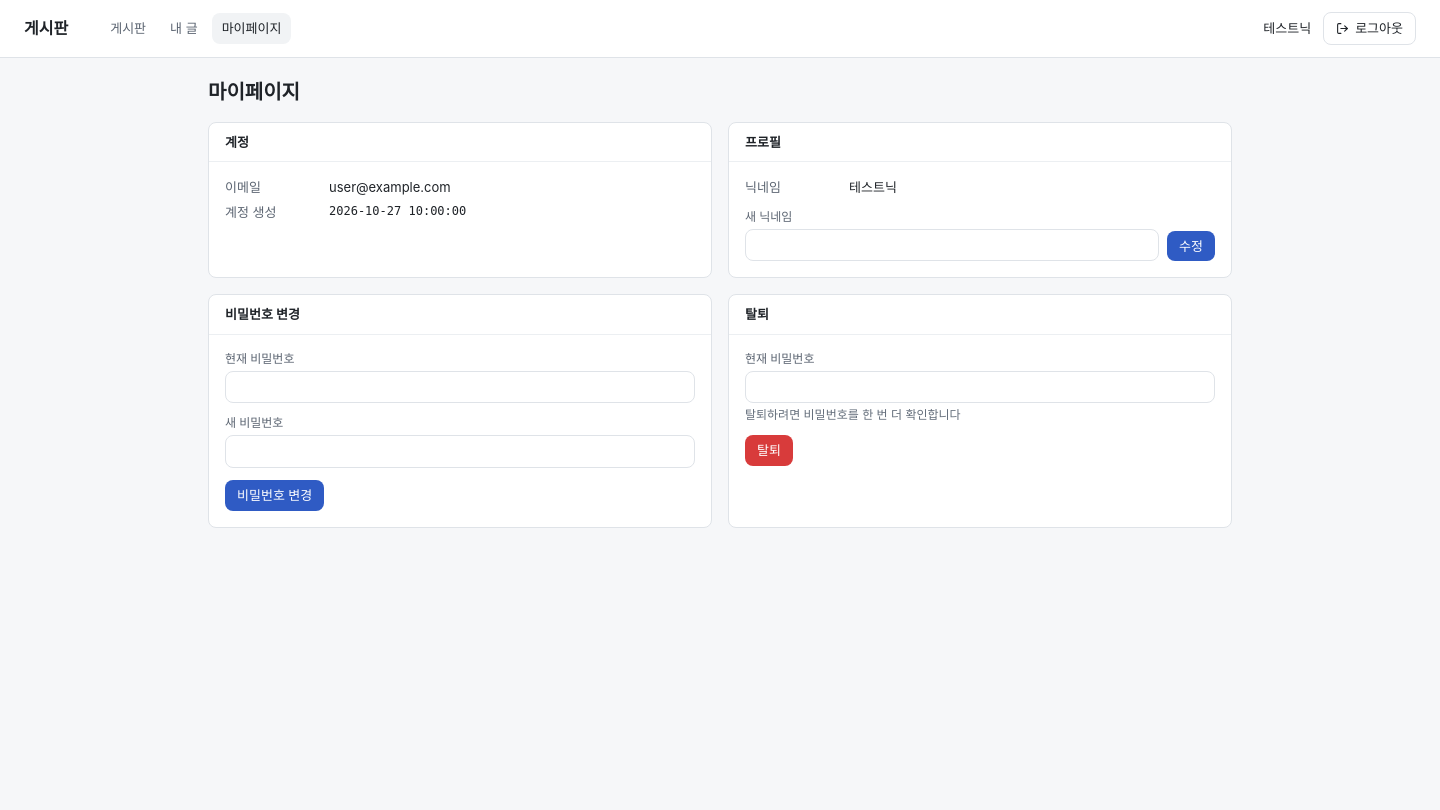
Test case: 화면마다 보이는 문구 › 마이페이지 — 탈퇴, 비밀번호가 틀림 — 검사 목록에 걸리는 것이 없다
expect the element that starts with "마이페이지" shows "user@example.com": met, box [329,179,451,195]
Type "Passw0rd!" into the 2nd password field labelled "현재 비밀번호". click: (980, 387)
box: [745,371,1215,403]
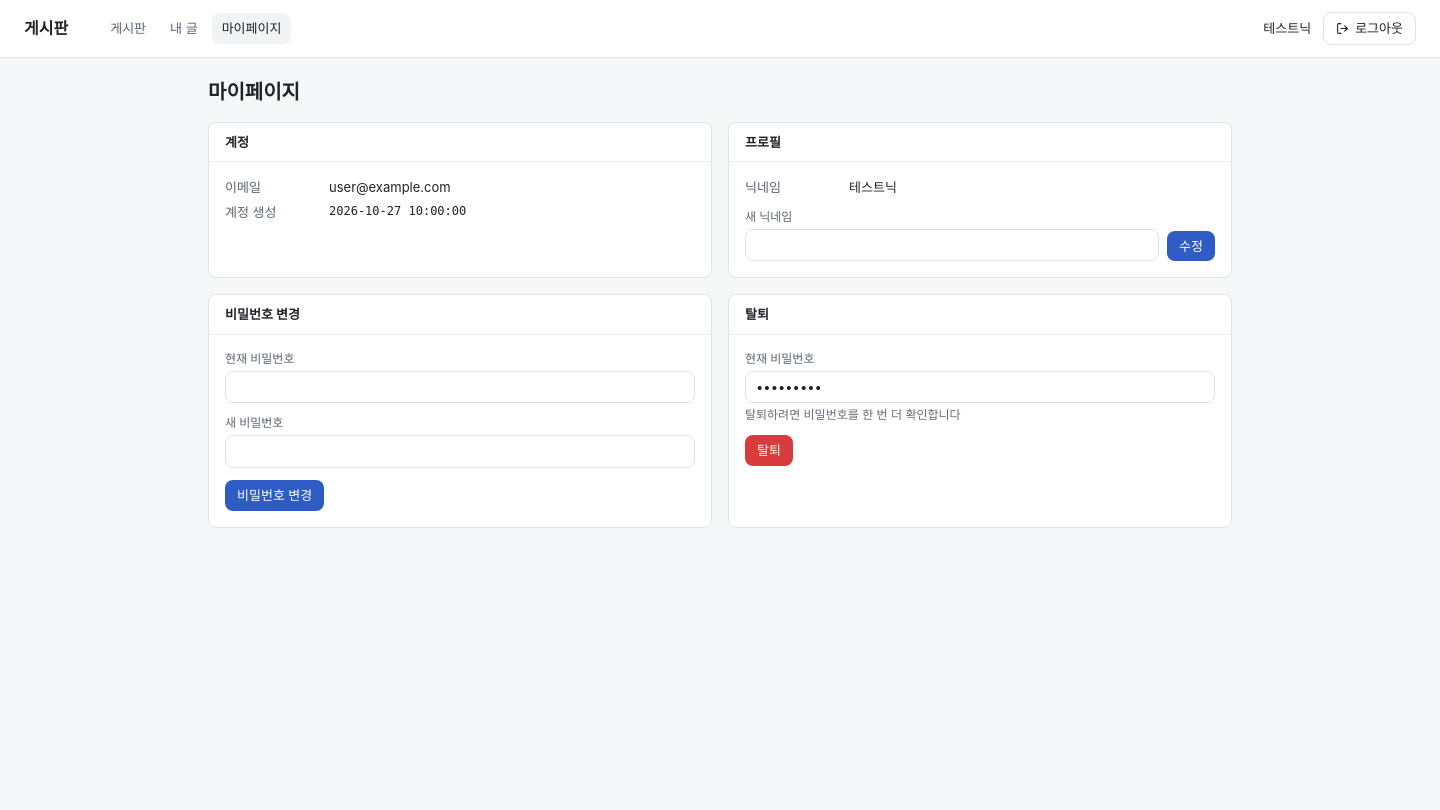
Submit the form "현재 비밀번호 탈퇴하려면 비밀번호를 한 번 더 확인합니다 탈퇴", box [745,351,1215,466]
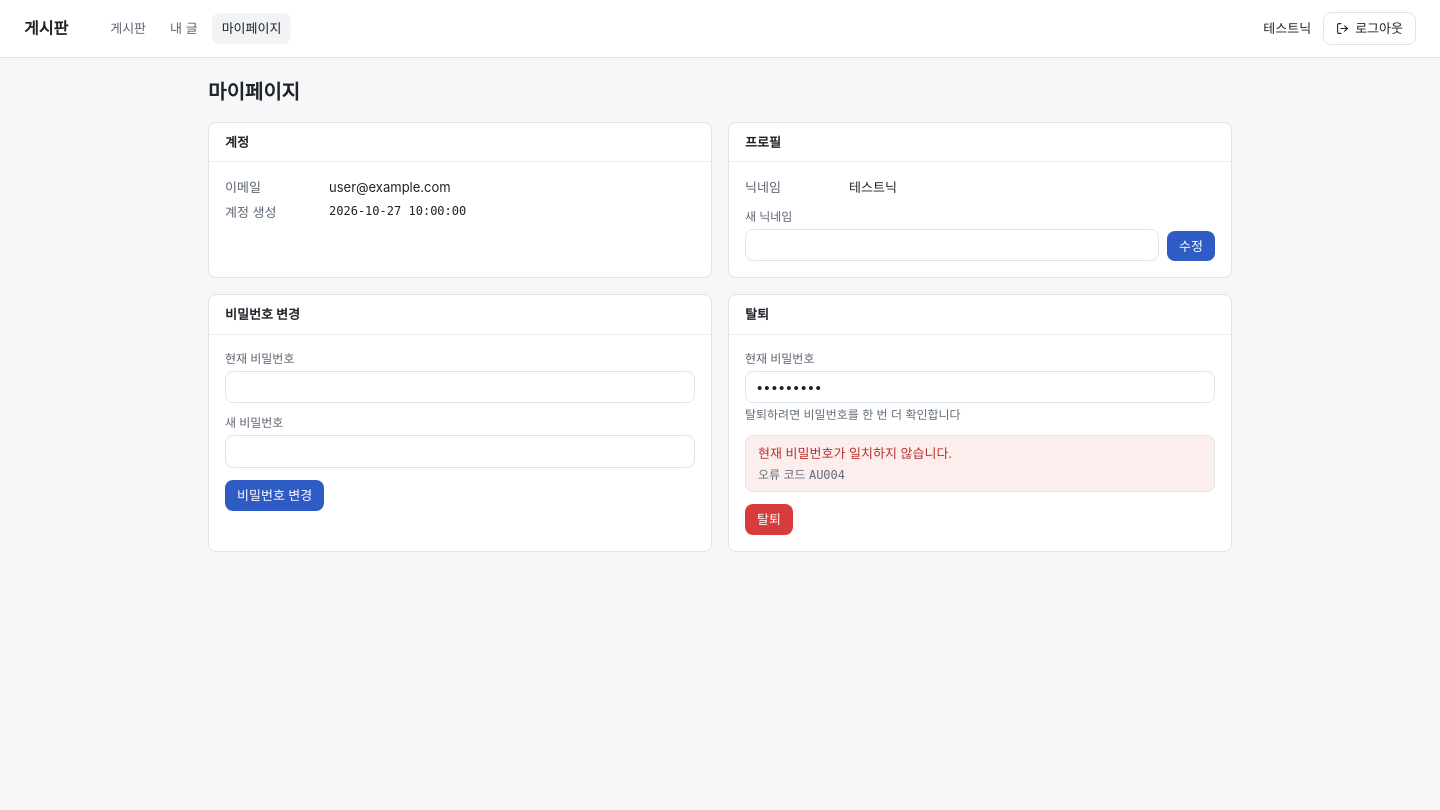
expect the element showing "현재 비밀번호가 일치하지 않습니다. 오류 코드 AU004" is shown: met, box [745,435,1215,492]
